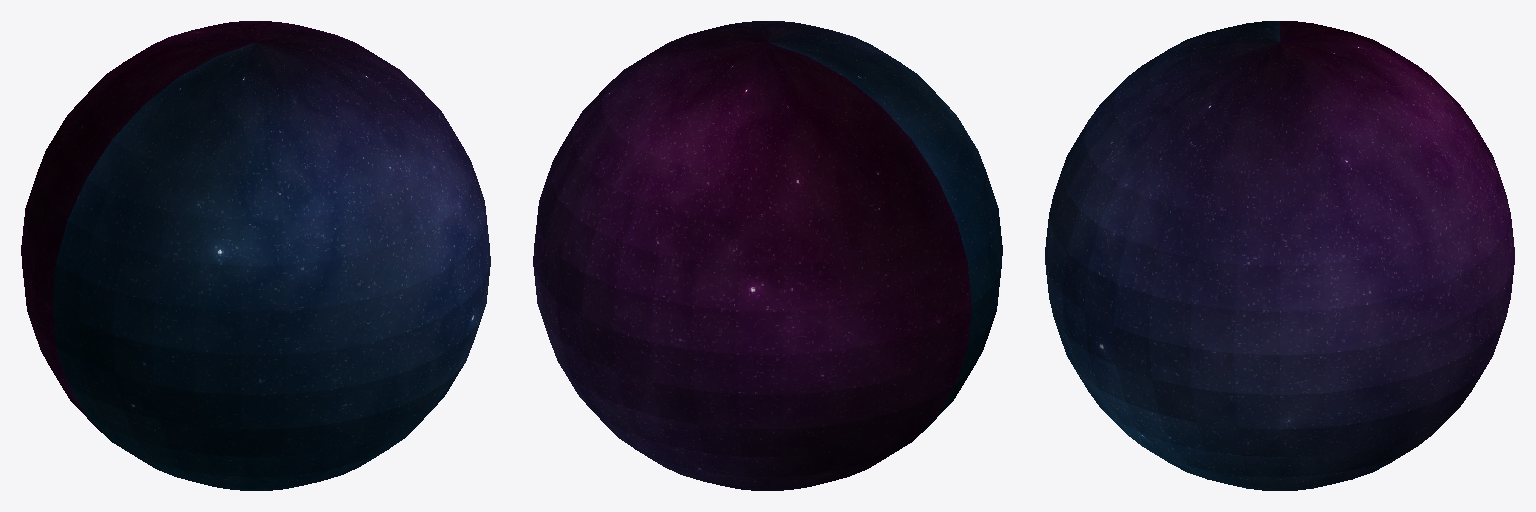
The picture shows the model from 3 angles: view 1: azimuth 30°, elevation 25°; view 2: azimuth 150°, elevation 25°; view 3: azimuth 270°, elevation 25°; orthographic projection.
Visible parts, largest first — view 1: 球; view 2: 球; view 3: 球.
Boxes of the visible parts, <box> form: 球: <box>21,21,490,490</box>; 球: <box>533,21,1002,490</box>; 球: <box>1045,21,1514,490</box>.
Bounding box in the file's own units: 2 × 2 × 2.
1 materials, 1 textured.